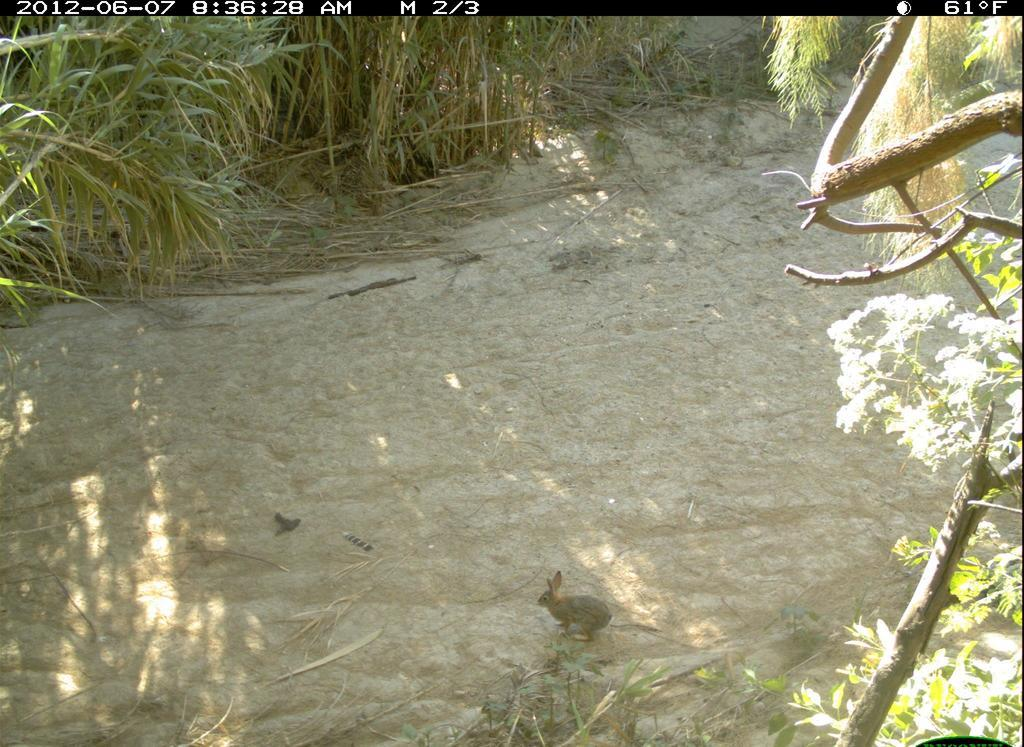rabbit: (537, 568, 616, 644)
